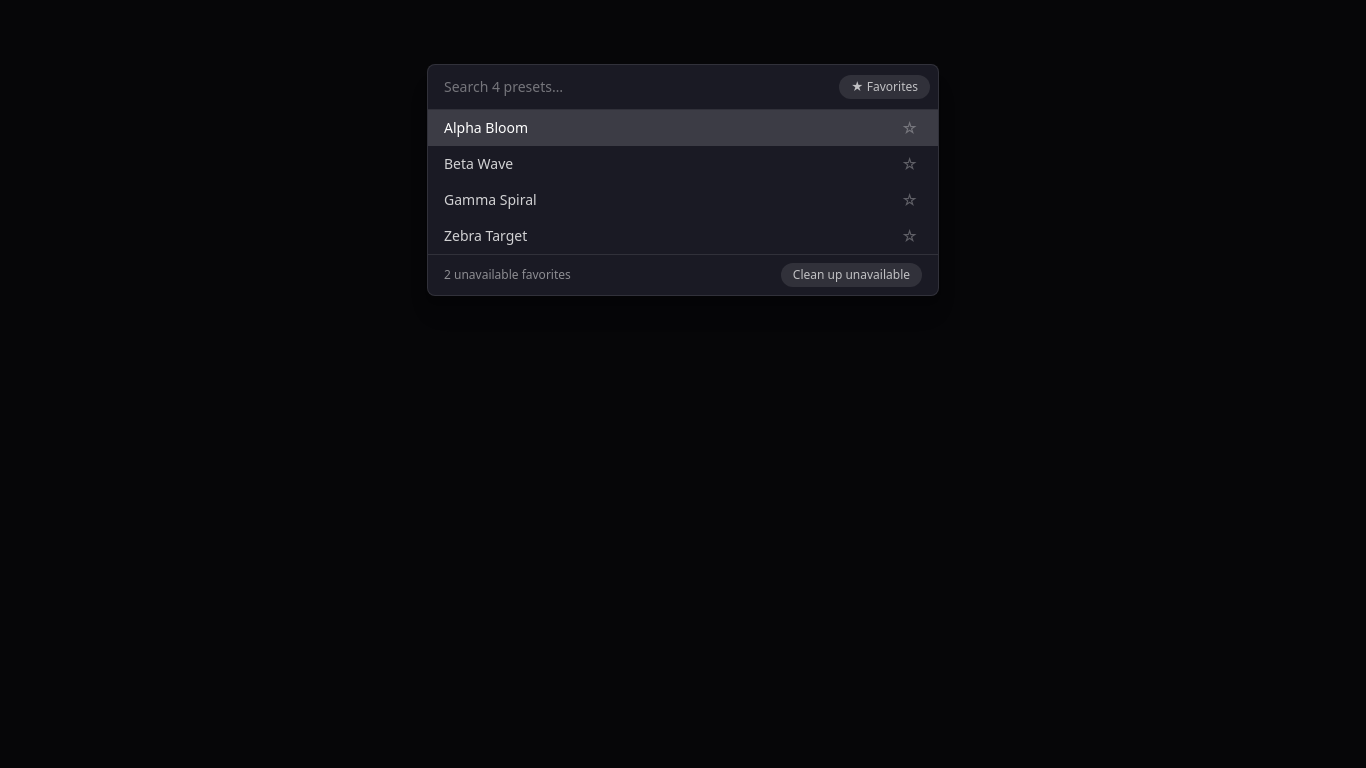
it: PresetSearch › confirmation text includes the engine label and count
This screenshot has width=1366, height=768.
Click the button "Clean up unavailable": (851, 275) [781,263,922,287]
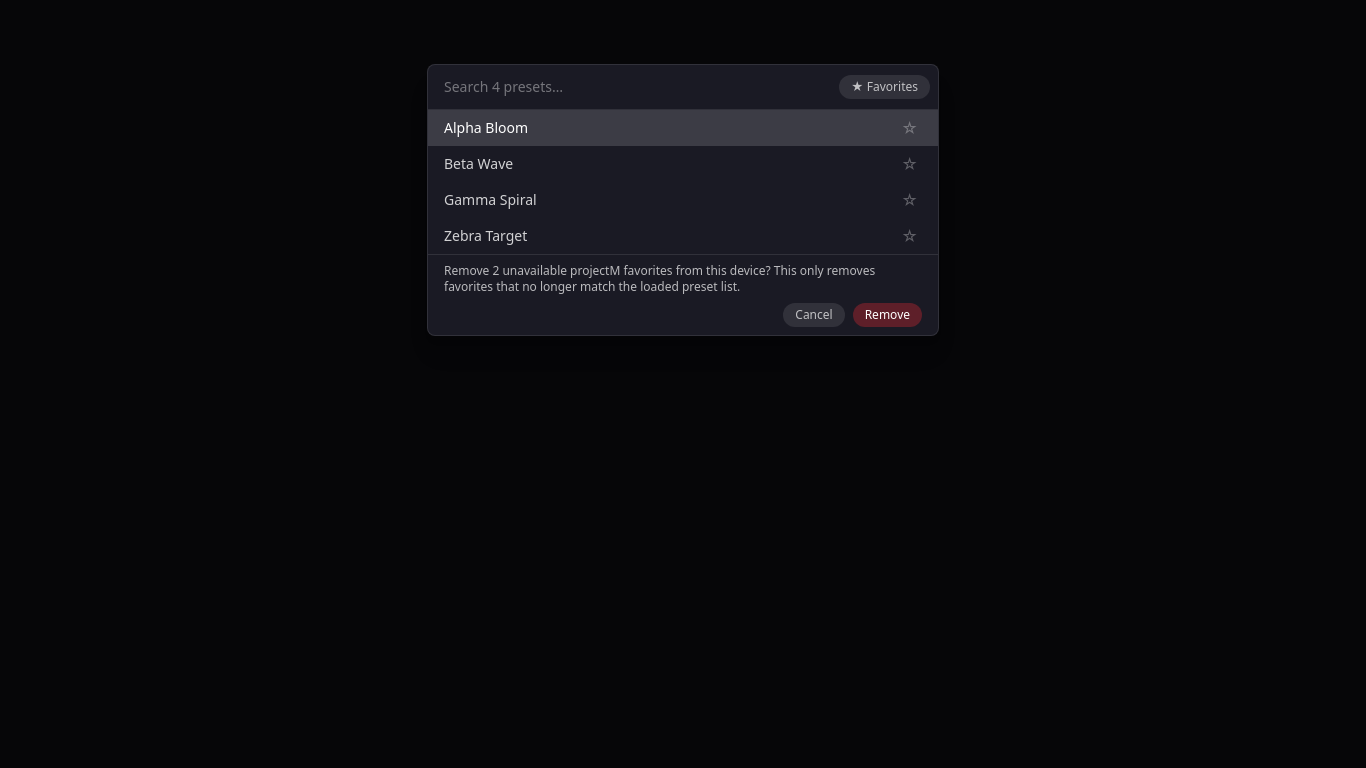
Now the text "only removes favorites that no longer match the loaded preset list" is shown, box [444,262,875,295]
